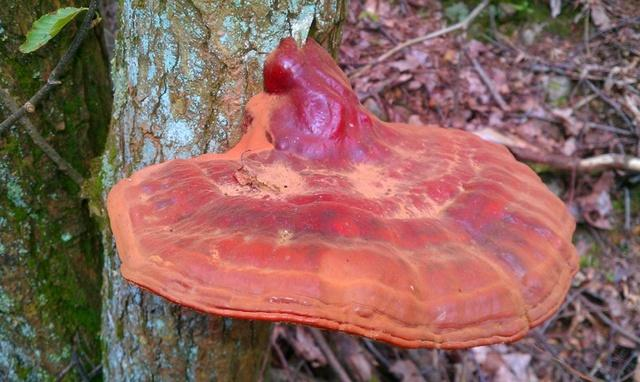Non-edible Mushroom: (104, 34, 581, 350)
